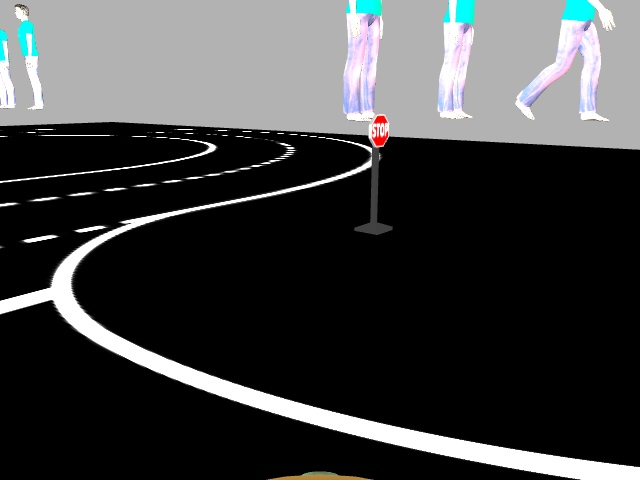Stop: (367, 114, 388, 147)
